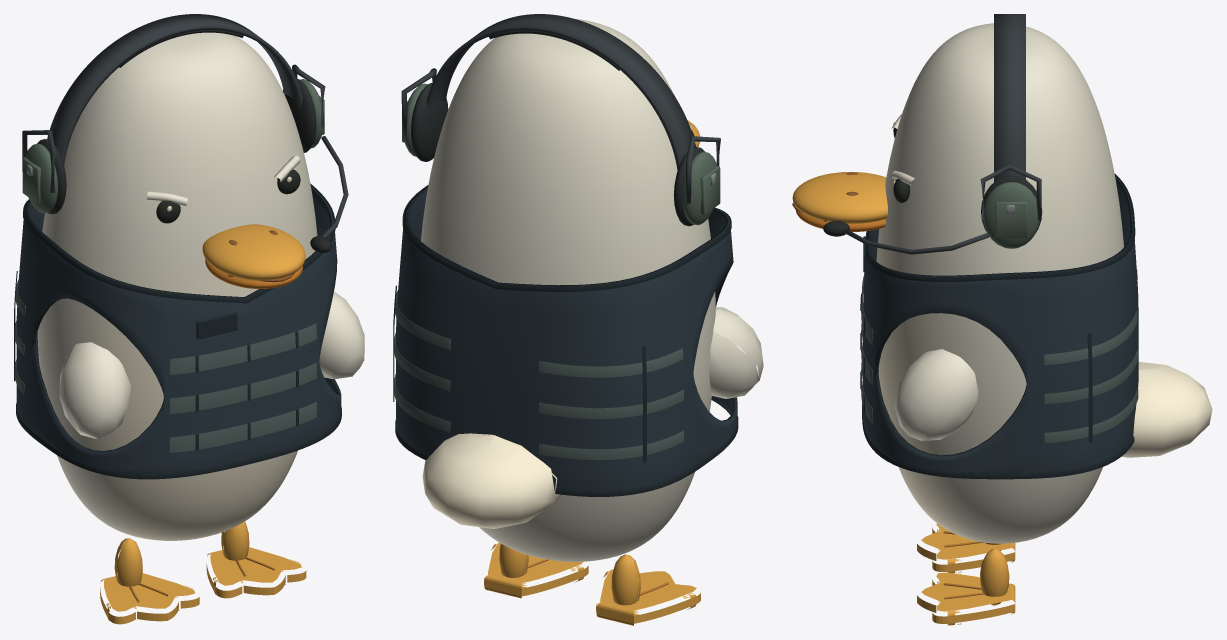
Rendered from goose-face-headset-character.glb.
The picture shows the model from 3 angles, left to right: view 1: azimuth 30°, elevation 25°; view 2: azimuth 150°, elevation 25°; view 3: azimuth 270°, elevation 25°; orthographic projection. The views are drawn at different scales.
Parts seen in each view (by area): view 1: goose_torso_mesh, goose_vest_refined_mesh, goose_face_headset_mesh, goose_leftArm_mesh, goose_beak_mesh, goose_leftFoot_mesh, goose_rightFoot_mesh, goose_rightArm_mesh; view 2: goose_vest_refined_mesh, goose_torso_mesh, goose_face_headset_mesh, goose_tail_mesh, goose_leftFoot_mesh, goose_leftArm_mesh, goose_rightFoot_mesh; view 3: goose_torso_mesh, goose_vest_refined_mesh, goose_face_headset_mesh, goose_rightArm_mesh, goose_tail_mesh, goose_beak_mesh, goose_rightFoot_mesh, goose_leftFoot_mesh.
Part boxes in pixels (box(x1,y1,x2,y2)): goose_torso_mesh: box(37, 32, 317, 540); goose_vest_refined_mesh: box(14, 183, 341, 479); goose_face_headset_mesh: box(22, 14, 348, 252); goose_leftArm_mesh: box(59, 342, 130, 438); goose_beak_mesh: box(202, 224, 305, 288); goose_leftFoot_mesh: box(100, 538, 199, 624); goose_rightFoot_mesh: box(206, 521, 306, 598); goose_rightArm_mesh: box(319, 291, 364, 378); goose_vest_refined_mesh: box(393, 185, 738, 496); goose_torso_mesh: box(421, 18, 715, 561); goose_face_headset_mesh: box(401, 14, 720, 226); goose_tail_mesh: box(422, 433, 561, 528); goose_leftFoot_mesh: box(596, 554, 700, 625); goose_leftArm_mesh: box(709, 307, 763, 398); goose_rightFoot_mesh: box(484, 542, 588, 598); goose_torso_mesh: box(876, 23, 1123, 543); goose_vest_refined_mesh: box(860, 174, 1138, 479); goose_face_headset_mesh: box(823, 14, 1042, 254); goose_rightArm_mesh: box(894, 349, 978, 440); goose_tail_mesh: box(1122, 362, 1212, 457); goose_beak_mesh: box(792, 172, 887, 231); goose_rightFoot_mesh: box(917, 549, 1015, 625); goose_leftFoot_mesh: box(917, 523, 1015, 573).
Bounding box in the file's own units: 1.1 × 1.99 × 1.37.
